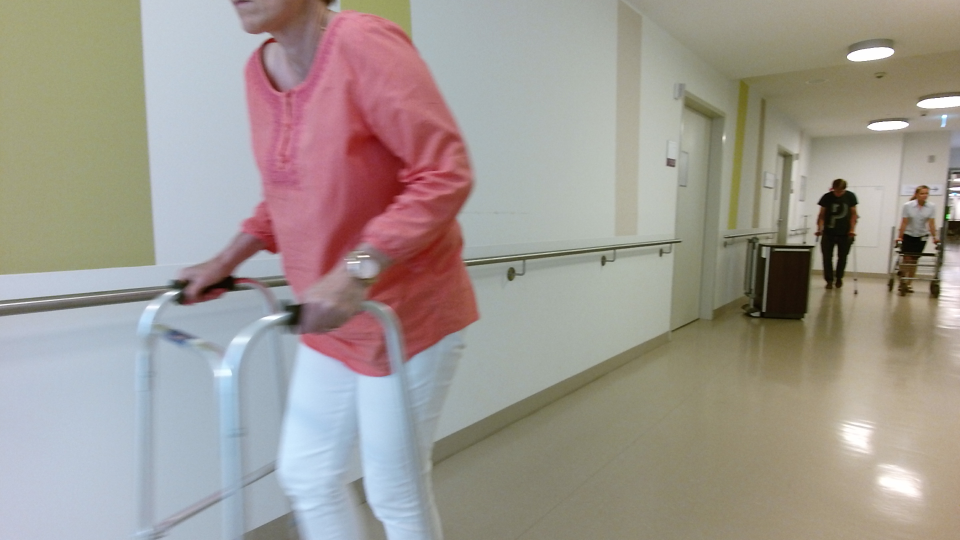crutches: (812, 177, 860, 297)
